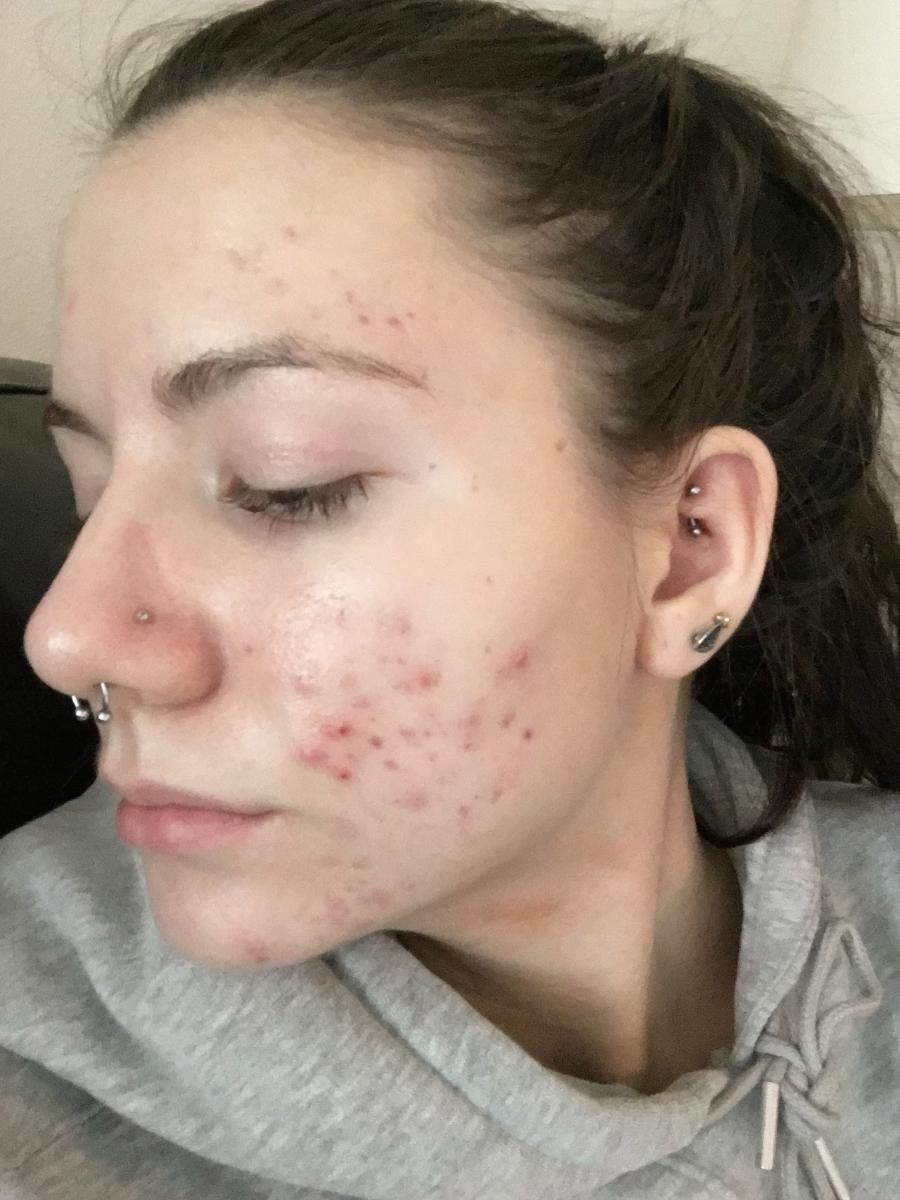Acne: (210, 582, 615, 916)
